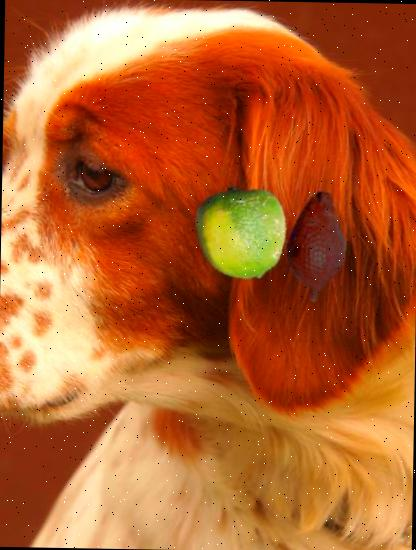Limes: (194, 184, 290, 282)
Salak: (260, 190, 372, 303)
